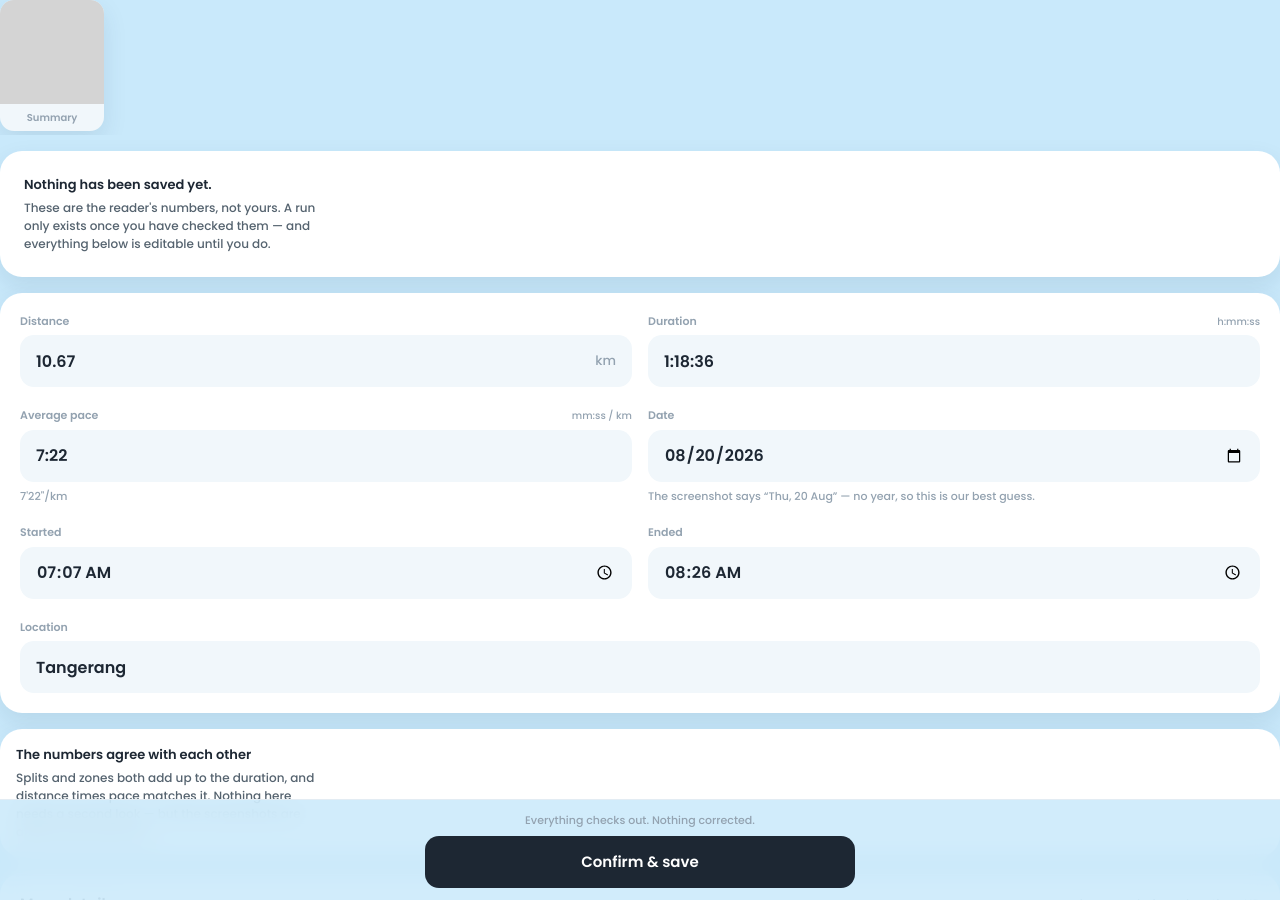
it: ReviewScreen — the two states that can come back from the action › a duplicate explains itself and links to the run that already exists
Click the button "Confirm & save".
click(640, 862)  # box [425, 836, 855, 888]
(page scrolled)
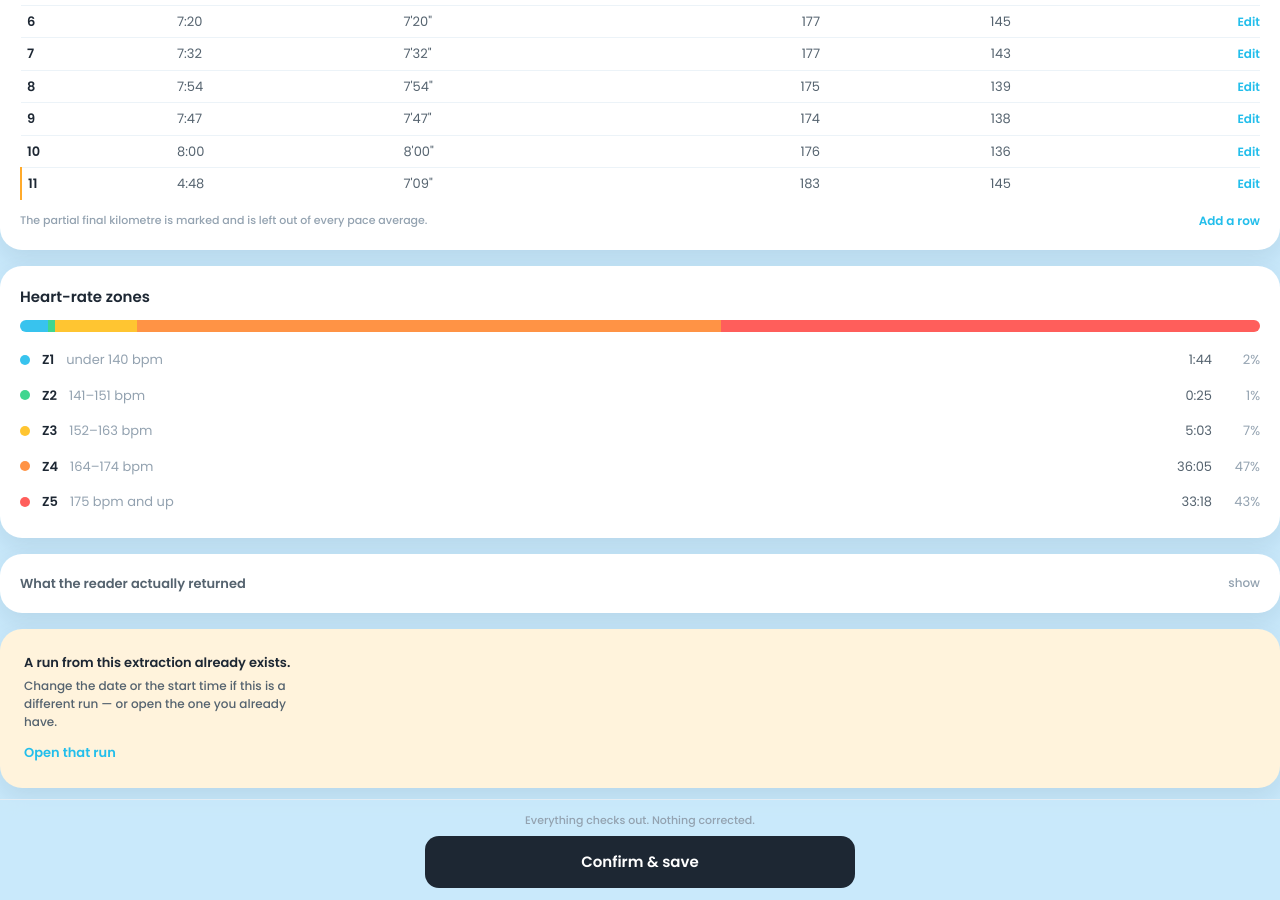
Expected: the text "A run from this extraction already exists." is shown, [24, 653, 290, 672]
